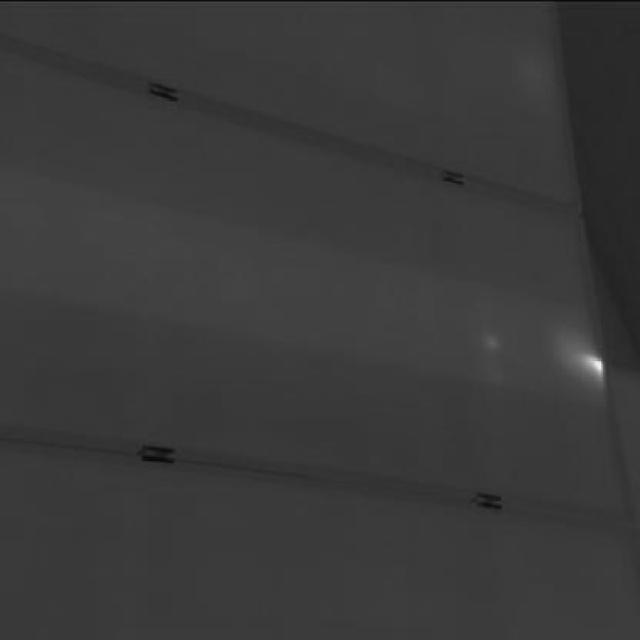hotspot: (569, 338, 606, 391)
